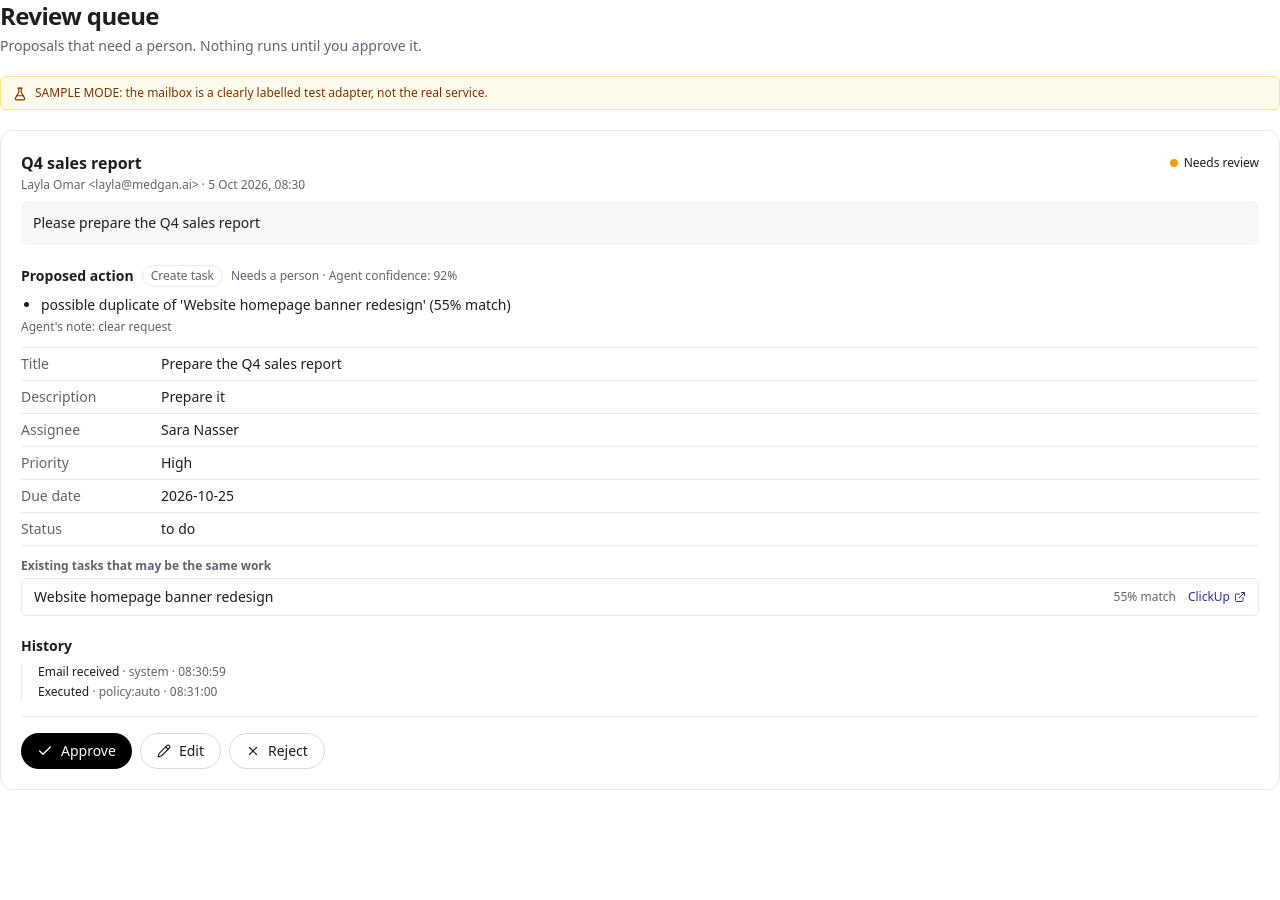
Test: ReviewView › rejects with an optional reason and says nothing was executed
Click the button "Reject" at (277, 751), box [229,733,325,769]
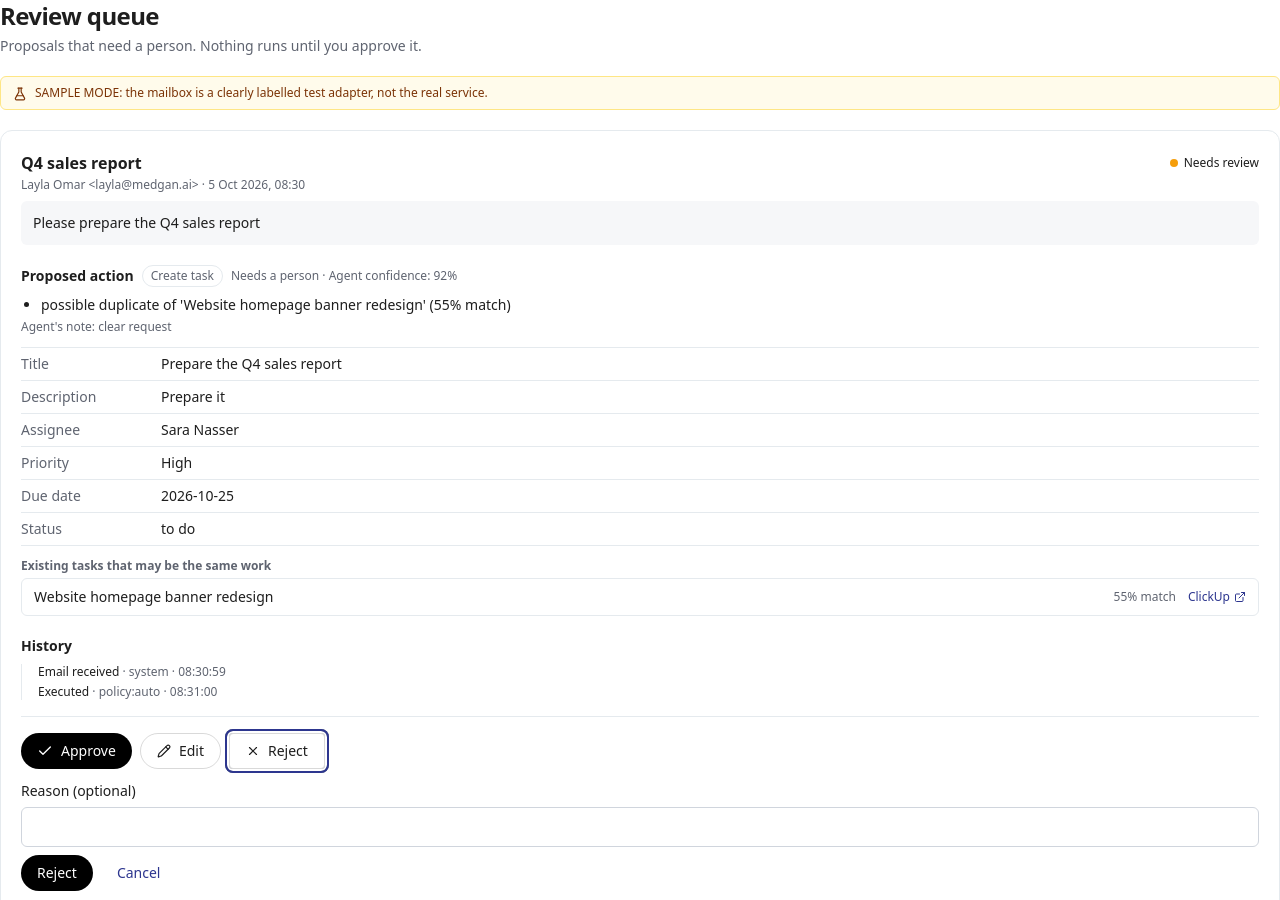
Type "duplicate of an old task" into the field labelled "Reason (optional)" at (640, 827), box [21,807,1259,847]
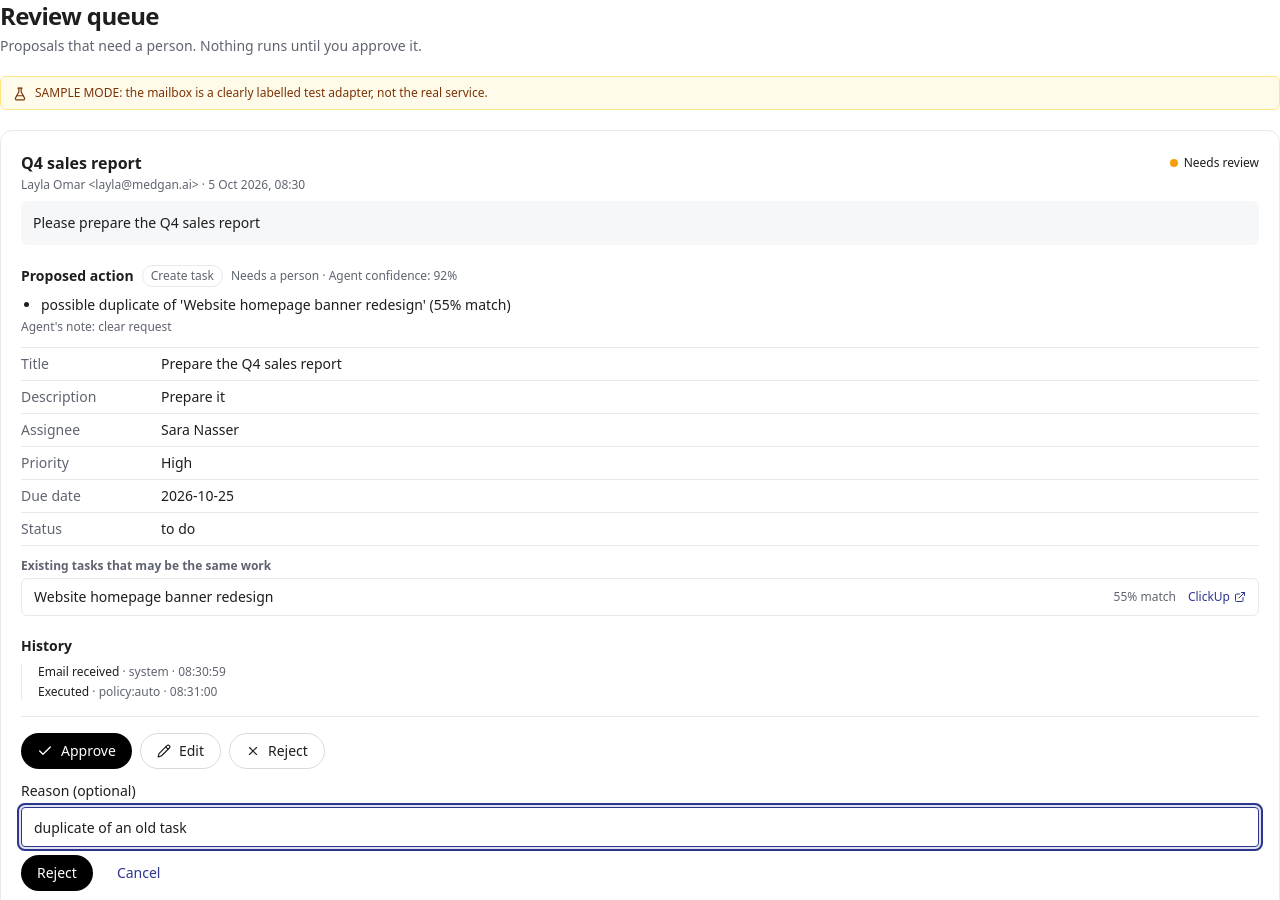
Click the button "Reject" below "Reason (optional)" at (57, 873), box [21,855,93,891]
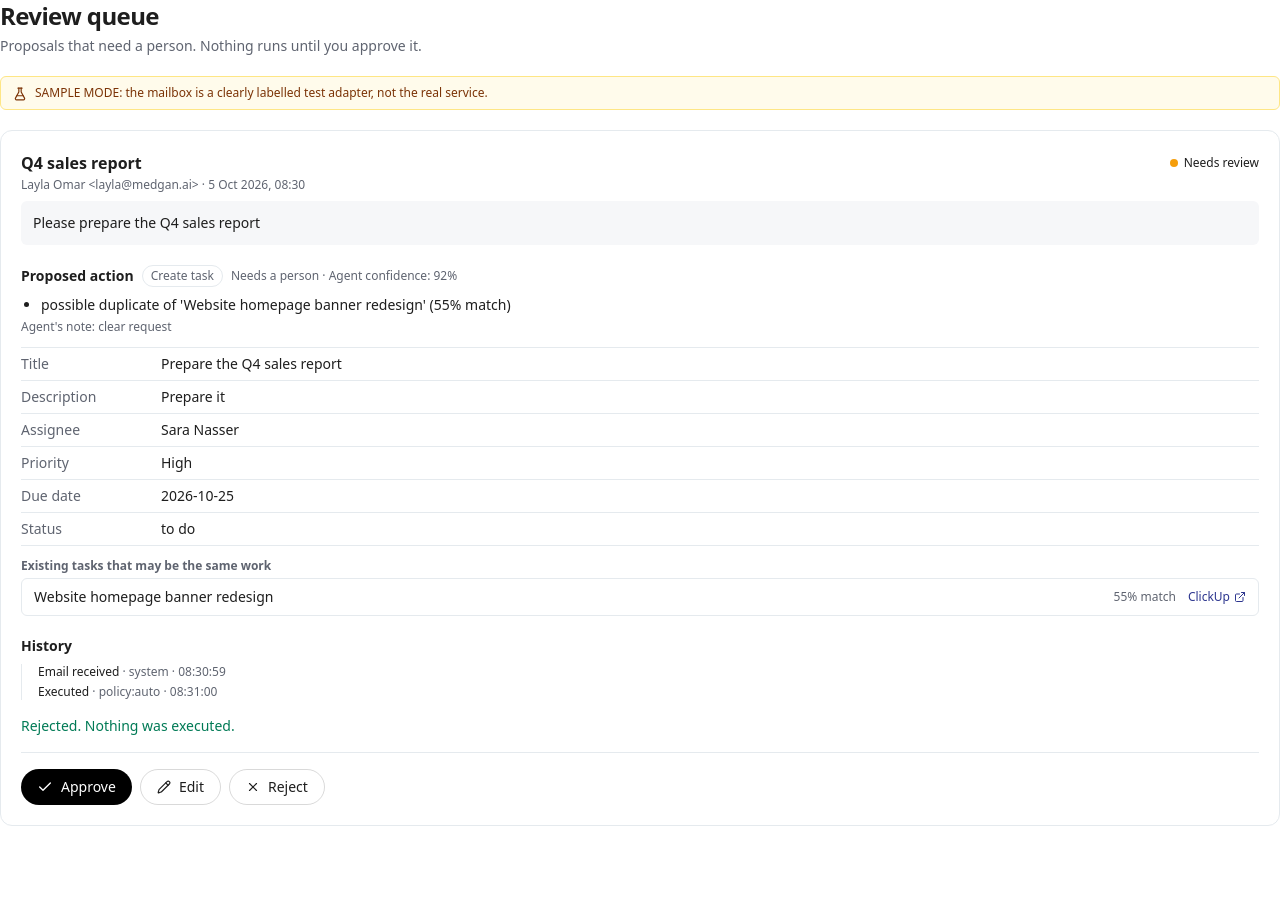
Now the text "Rejected. Nothing was executed." is shown, box [21,716,235,735]
